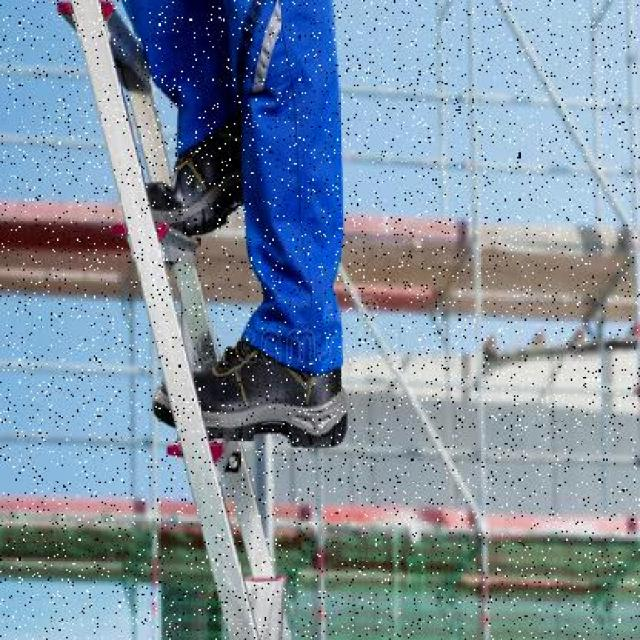shoes: (174, 342, 348, 453), (138, 132, 239, 239)
